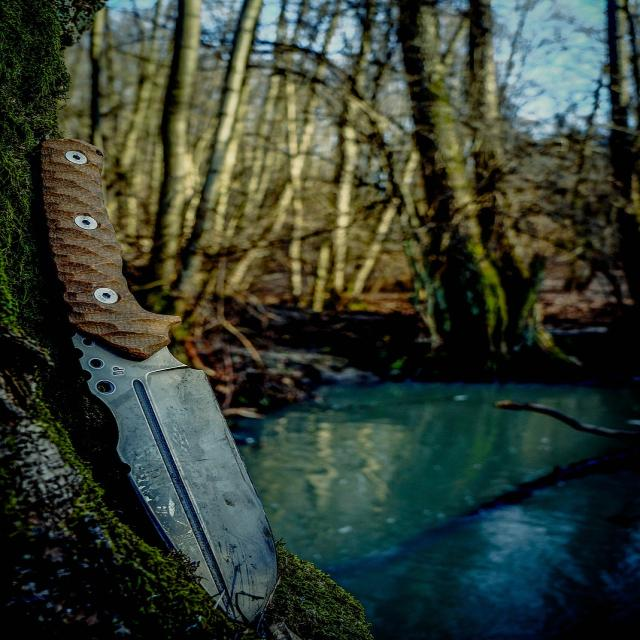knife: (40, 138, 282, 622)
